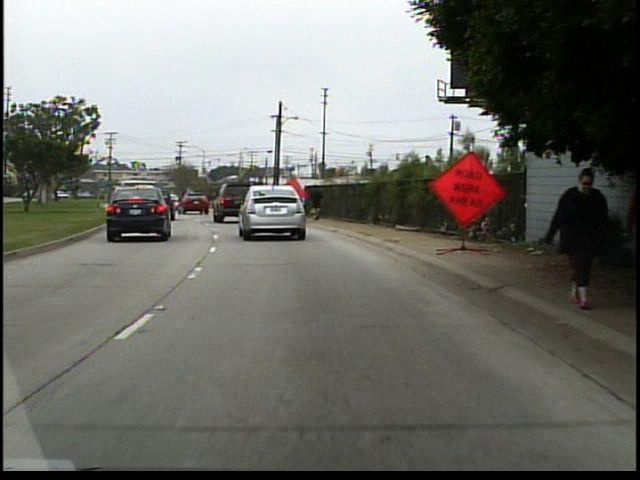person: (535, 156, 612, 313), (305, 179, 327, 222)
